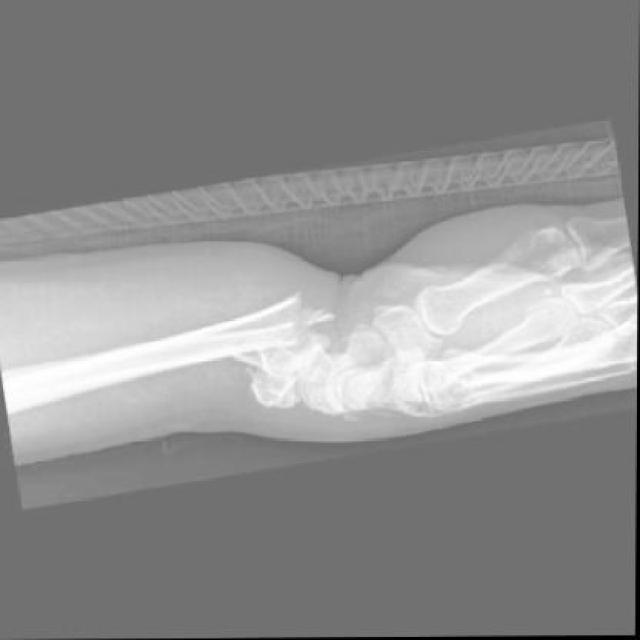Fracture: (214, 291, 341, 421), (302, 360, 372, 436)
